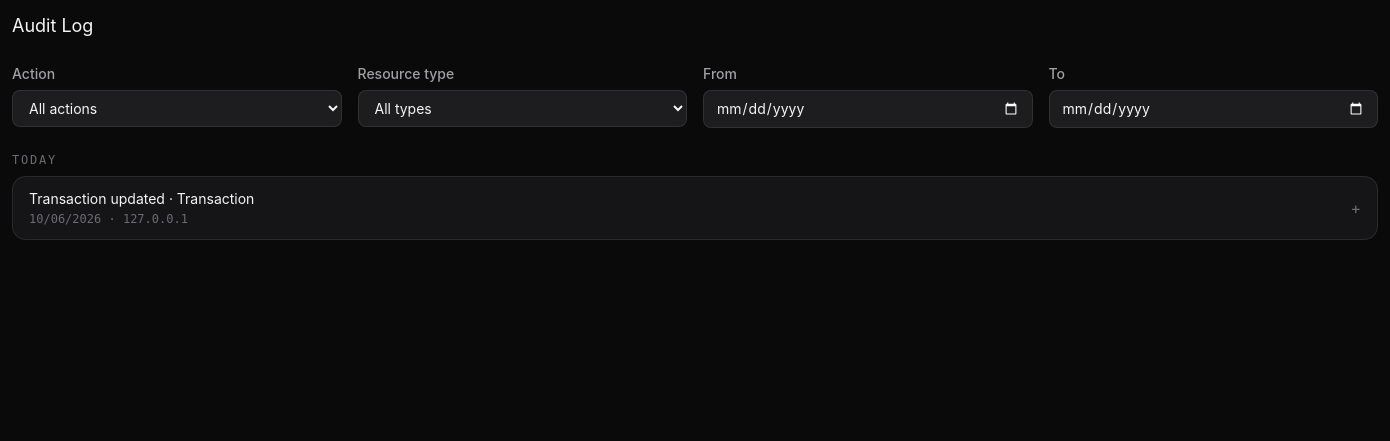
Test: AuditLogPanel › expands a row to show its before/after and metadata detail
Expected: the text "\"amount_minor\"" is not shown
Step 1. Click the button "Transaction updated · Transaction 10/06/2026 · 127.0.0.1 +" → (97, 198), box [29,189,1361,227]
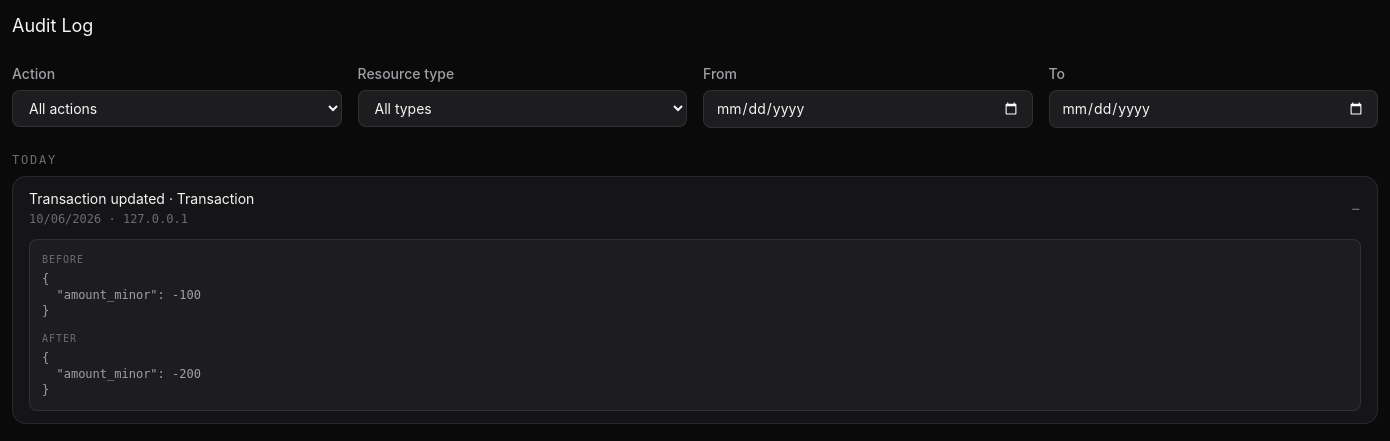
Now the text "{ \"amount_minor\": -100 }" is shown, box [42,272,201,318]
Now the text "{ \"amount_minor\": -200 }" is shown, box [42,351,201,397]
